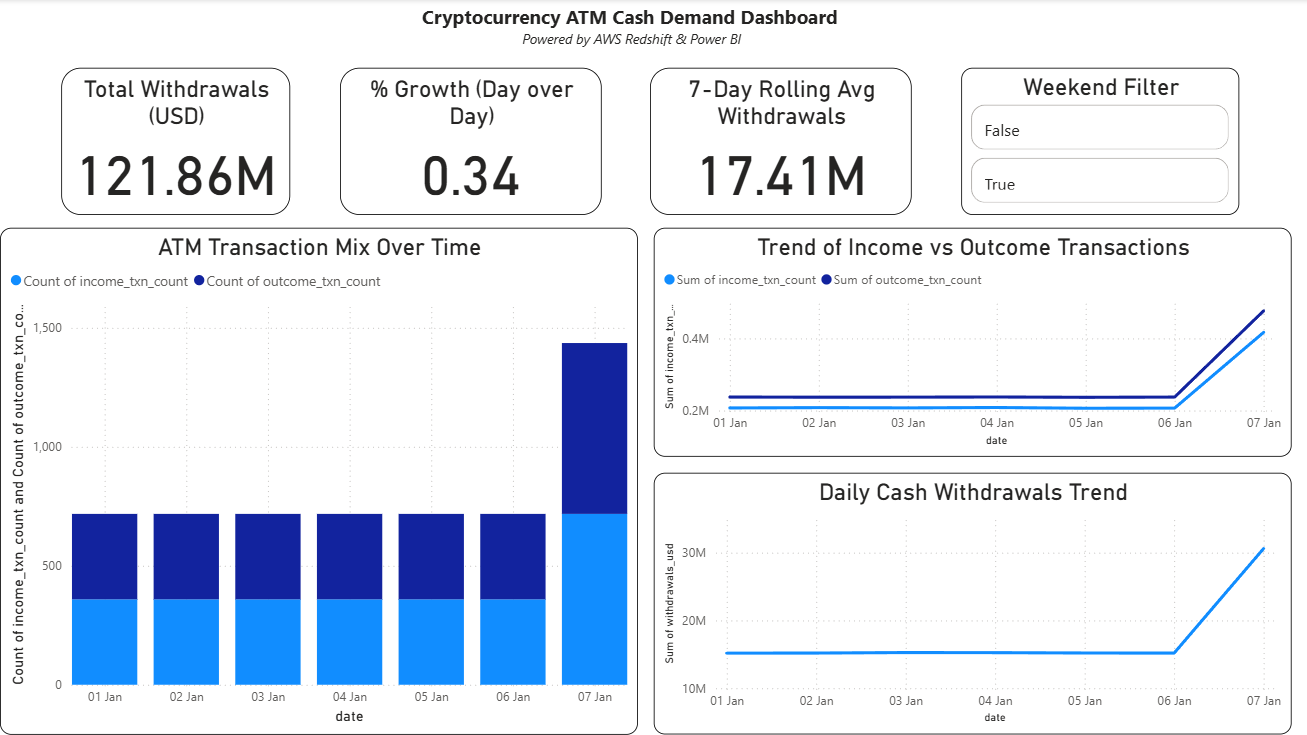

The page's visual inventory and layout, read from the dashboard file:
{"tool":"powerbi","page":{"name":"Page 1","canvas":[1280,720],"ordinal":0},"visuals":[{"type":"lineChart","title":"Daily Cash Withdrawals Trend","fields":{"Category":["atm_daily.date"],"Y":["Sum(atm_daily.withdrawals_usd)"]},"box":[640,464,624,256],"z":0},{"type":"columnChart","title":"ATM Transaction Mix Over Time","fields":{"Category":["atm_daily.date"],"Y":["CountNonNull(atm_daily.income_txn_count)","CountNonNull(atm_daily.outcome_txn_count)"]},"box":[0,224,624,496],"z":1000},{"type":"card","title":"Total Withdrawals (USD)","fields":{"Values":["Sum(atm_daily.withdrawals_usd)"]},"box":[60.1,67,224,144],"z":2000},{"type":"advancedSlicerVisual","title":"Weekend Filter","fields":{"Values":["atm_daily.is_weekend"]},"box":[940.1,67,272,144],"z":3000},{"type":"card","title":"% Growth (Day over Day)","fields":{"Values":["atm_daily.Withdrawals_DoD"]},"box":[332.1,67,256,144],"z":4000},{"type":"card","title":"7-Day Rolling Avg Withdrawals","fields":{"Values":["atm_daily.Withdrawals_7DayAvg"]},"box":[636.1,67,256,144],"z":5000},{"type":"lineChart","title":"Trend of Income vs Outcome Transactions","fields":{"Category":["atm_daily.date"],"Y":["Sum(atm_daily.income_txn_count)","Sum(atm_daily.outcome_txn_count)"]},"box":[640,224,624,224],"z":5001},{"type":"textbox","box":[352,0,528,64],"z":5002}]}

Visuals, with their boxes in screenshot pixels (x1, y1, x2, y2), scaled from the page's 1280x720 canvas onto the 1307x735 screenshot:
"Daily Cash Withdrawals Trend" lineChart: crop(654, 474, 1291, 734)
"ATM Transaction Mix Over Time" columnChart: crop(0, 229, 637, 734)
"Total Withdrawals (USD)" card: crop(61, 68, 290, 215)
"Weekend Filter" advancedSlicerVisual: crop(960, 68, 1238, 215)
"% Growth (Day over Day)" card: crop(339, 68, 601, 215)
"7-Day Rolling Avg Withdrawals" card: crop(650, 68, 911, 215)
"Trend of Income vs Outcome Transactions" lineChart: crop(654, 229, 1291, 457)
textbox: crop(359, 0, 899, 65)
